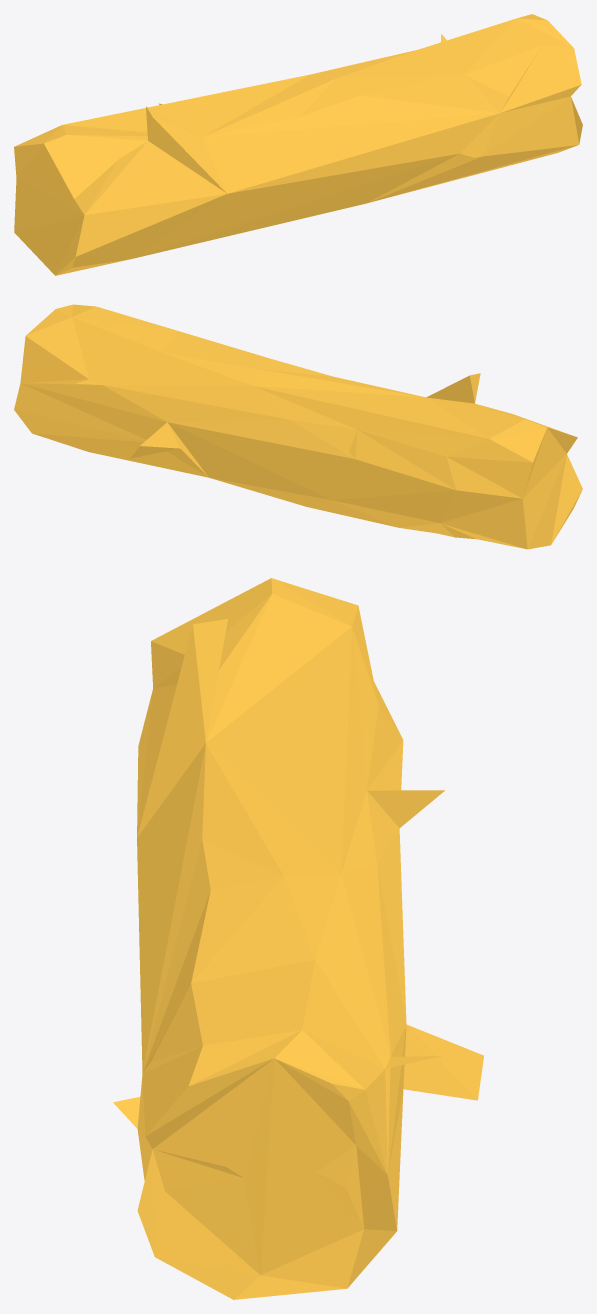
The model's file is keepy_jump_log.glb.
3 views of the same model, one above another, from view 1: azimuth 30°, elevation 25°; view 2: azimuth 150°, elevation 25°; view 3: azimuth 270°, elevation 25° (orthographic). The views are drawn at different scales.
Visible parts, largest first — view 1: jump_log_150; view 2: jump_log_150; view 3: jump_log_150.
Boxes of the visible parts, <box> form: jump_log_150: <box>14,14,582,275</box>; jump_log_150: <box>14,304,582,549</box>; jump_log_150: <box>113,578,483,1299</box>.
Bounding box in the file's own units: 1.89 × 0.5207 × 0.597.
